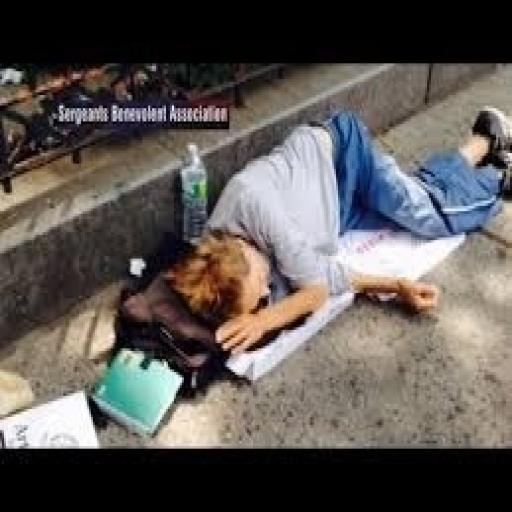sleeping: (162, 103, 510, 356)
